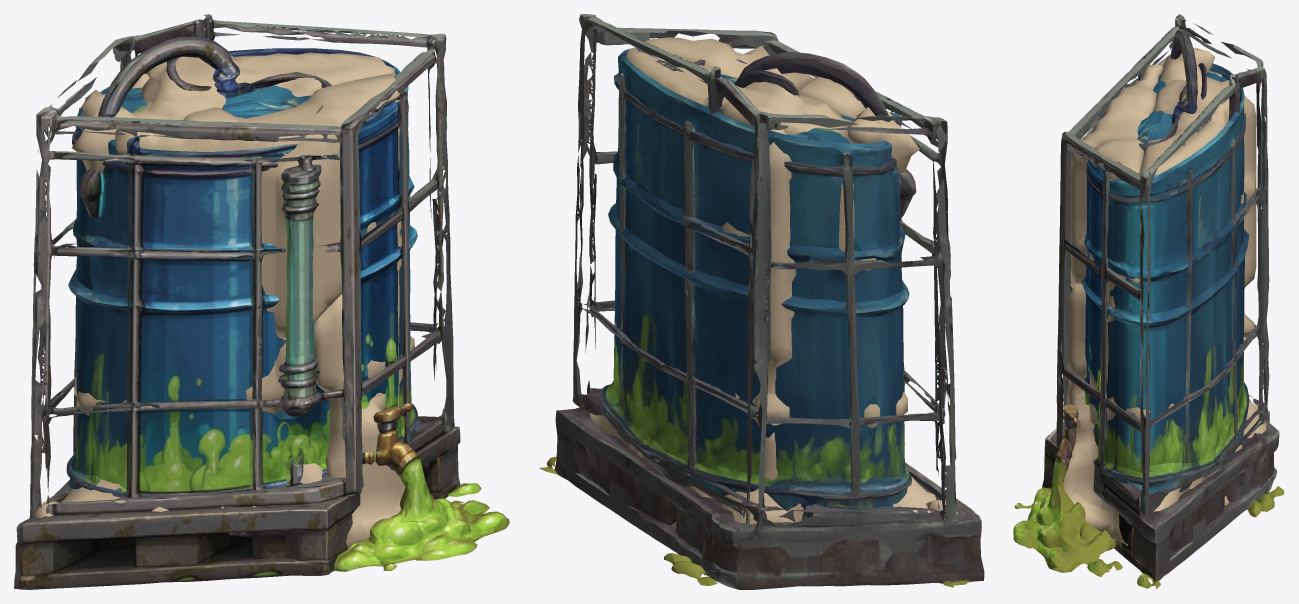
The model's file is detergent_tank_chunks.glb.
3 renders of one model, left to right at view 1: azimuth 30°, elevation 25°; view 2: azimuth 150°, elevation 25°; view 3: azimuth 270°, elevation 25°, orthographic. The views are drawn at different scales.
Parts seen in each view (by area): view 1: chunk4_shell, chunk1_shell, chunk3_shell, chunk0_shell, chunk5_shell, chunk4_core, chunk5_core, chunk0_core, chunk2_shell, chunk3_core, chunk1_core; view 2: chunk1_shell, chunk3_shell, chunk0_shell, chunk5_shell, chunk2_shell, chunk5_core, chunk1_core, chunk4_core, chunk4_shell, chunk3_core; view 3: chunk0_shell, chunk5_shell, chunk1_shell, chunk4_shell, chunk2_shell, chunk0_core, chunk4_core, chunk5_core, chunk3_shell, chunk1_core, chunk3_core.
Part boxes in pixels (x1,y1,x2,y2): chunk4_shell: [43, 39, 440, 375]; chunk1_shell: [15, 33, 252, 564]; chunk3_shell: [14, 332, 315, 589]; chunk0_shell: [312, 120, 509, 571]; chunk5_shell: [36, 14, 446, 372]; chunk4_core: [115, 73, 399, 339]; chunk5_core: [71, 52, 394, 174]; chunk0_core: [314, 196, 414, 548]; chunk2_shell: [282, 372, 341, 575]; chunk3_core: [60, 343, 286, 511]; chunk1_core: [34, 73, 149, 518]; chunk1_shell: [630, 104, 981, 557]; chunk3_shell: [691, 328, 984, 589]; chunk0_shell: [539, 98, 656, 524]; chunk5_shell: [578, 14, 947, 224]; chunk2_shell: [633, 267, 717, 585]; chunk5_core: [626, 47, 919, 174]; chunk1_core: [722, 129, 957, 517]; chunk4_core: [646, 37, 895, 122]; chunk4_shell: [617, 27, 940, 147]; chunk3_core: [722, 393, 935, 524]; chunk0_shell: [1013, 251, 1216, 589]; chunk5_shell: [1112, 14, 1255, 280]; chunk1_shell: [1193, 43, 1269, 344]; chunk4_shell: [1059, 17, 1176, 292]; chunk2_shell: [1042, 297, 1284, 538]; chunk0_core: [1063, 273, 1203, 545]; chunk4_core: [1070, 64, 1163, 288]; chunk5_core: [1140, 48, 1235, 175]; chunk3_shell: [1056, 314, 1283, 492]; chunk1_core: [1209, 71, 1256, 337]; chunk3_core: [1243, 337, 1266, 438].
Size of the model in its own units: 1.5 by 1.6 by 0.9.
1 material, 1 textured.
